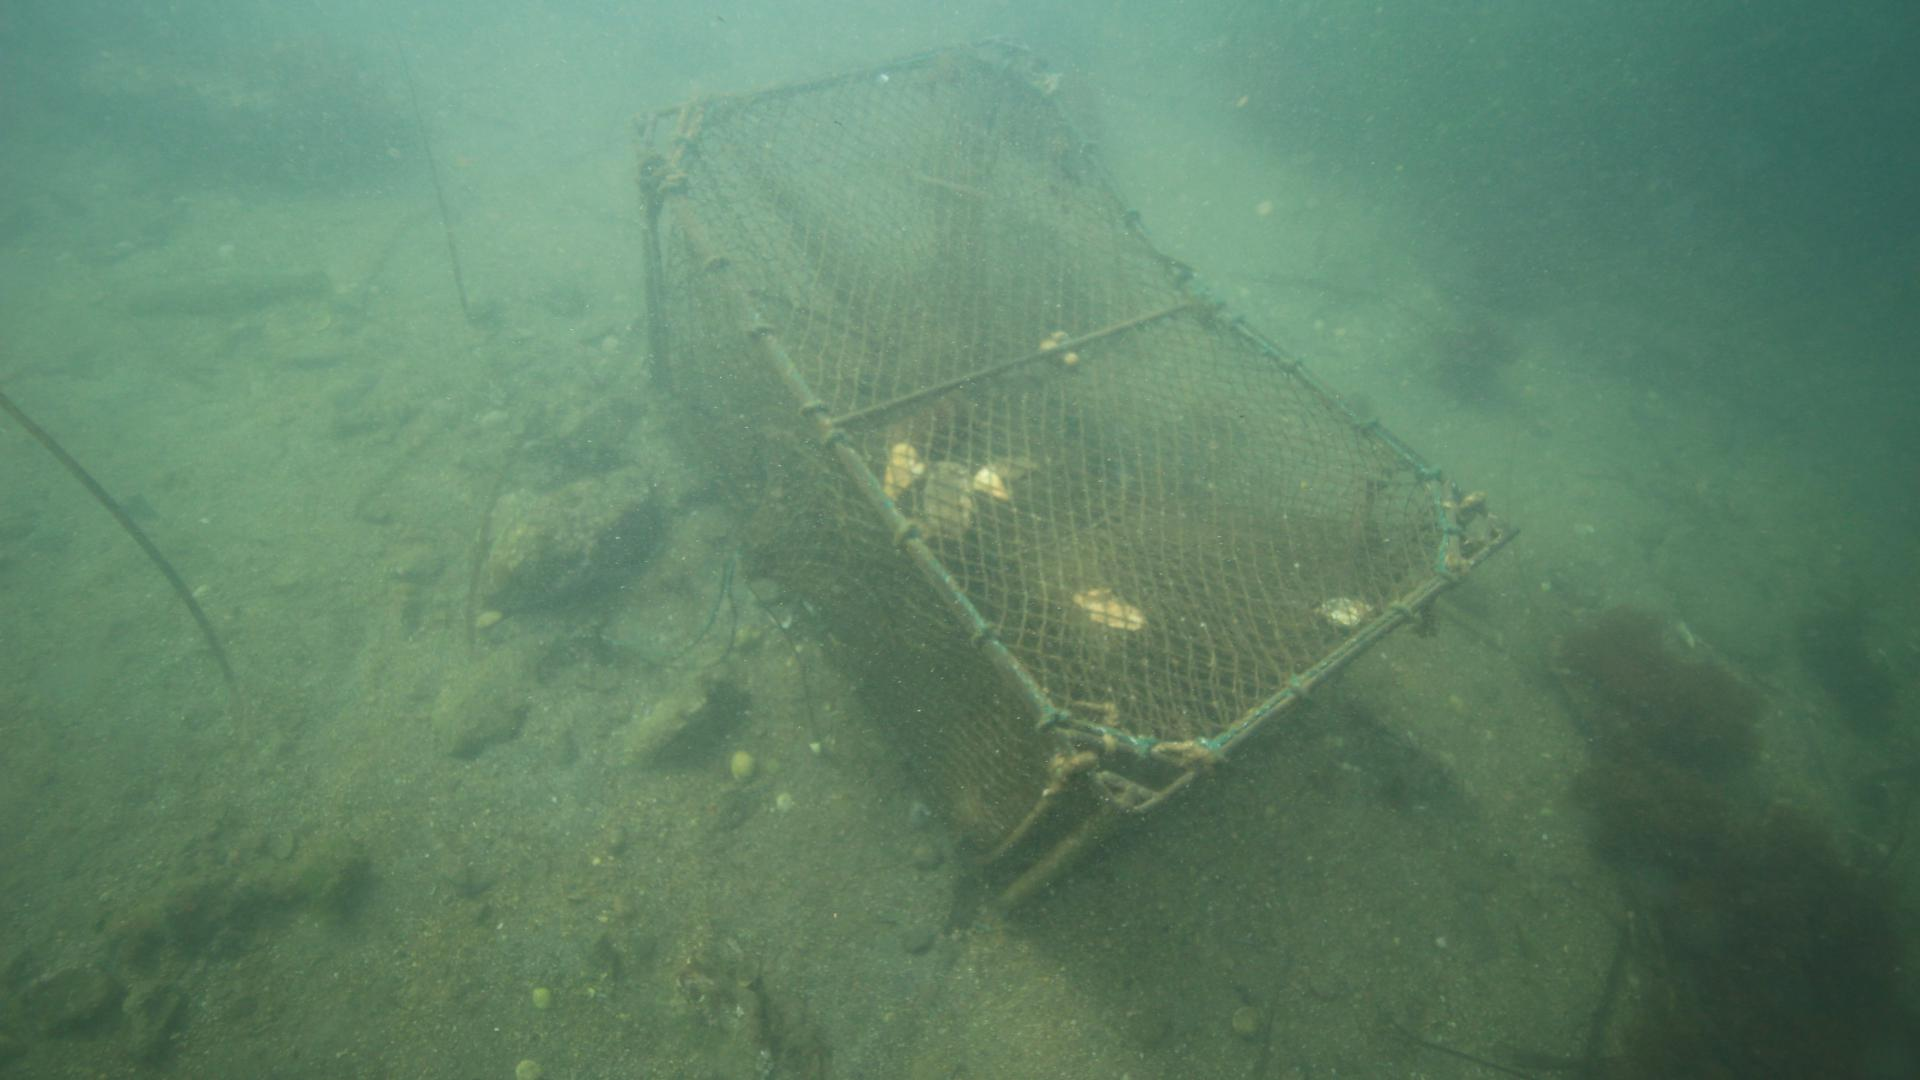rectangular fish trap: (622, 36, 1524, 919)
